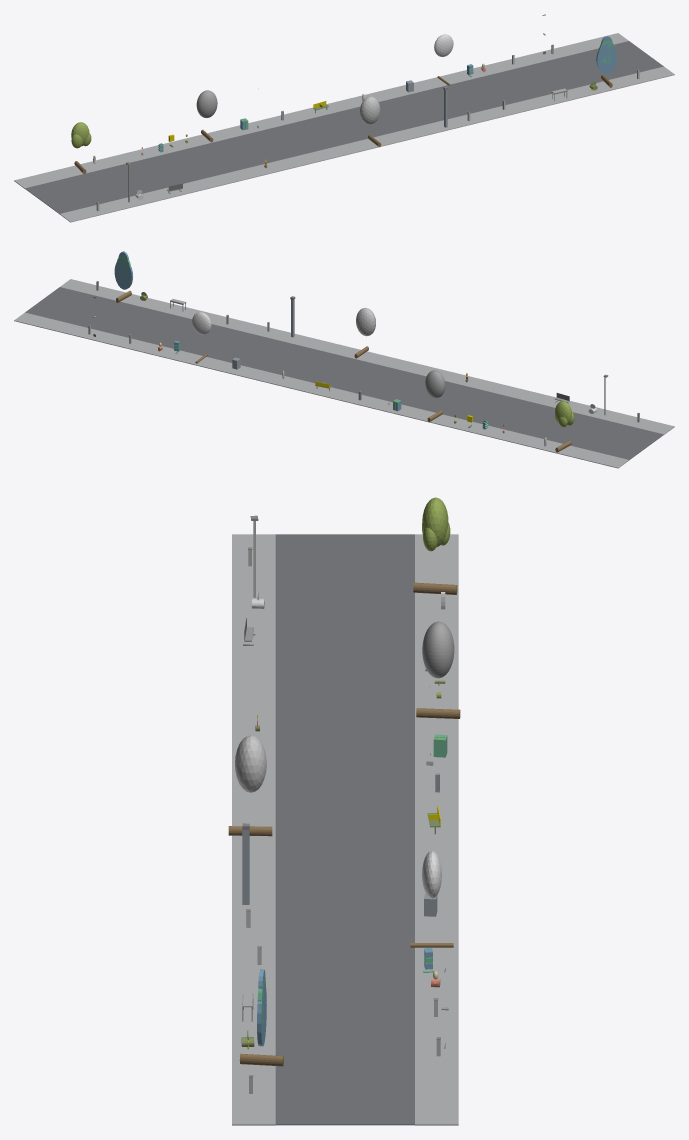
3 renders of one model, top to bottom at view 1: azimuth 30°, elevation 25°; view 2: azimuth 150°, elevation 25°; view 3: azimuth 270°, elevation 25°, orthographic. The views are drawn at different scales.
Visible parts, largest first — view 1: road_slab, sidewalk_left, sidewalk_right, inst_0016, inst_0013, inst_0014, inst_0012, inst_0015; view 2: road_slab, sidewalk_right, sidewalk_left, inst_0016, inst_0013, inst_0014, inst_0012, inst_0015; view 3: road_slab, sidewalk_left, sidewalk_right, inst_0013, inst_0014, inst_0012, inst_0016, inst_0015.
Boxes of the visible parts, box(x1,y1,x2,y2) form: road_slab: box(25, 41, 663, 213); sidewalk_left: box(59, 66, 674, 222); sidewalk_right: box(14, 33, 628, 188); inst_0016: box(596, 36, 617, 87); inst_0013: box(196, 90, 217, 142); inst_0014: box(360, 96, 381, 147); inst_0012: box(71, 122, 91, 173); inst_0015: box(434, 34, 453, 85); road_slab: box(25, 287, 663, 459); sidewalk_right: box(14, 312, 629, 468); sidewalk_left: box(60, 279, 674, 434); inst_0016: box(114, 251, 133, 302); inst_0013: box(425, 370, 445, 421); inst_0014: box(354, 307, 375, 358); inst_0012: box(555, 401, 574, 452); inst_0015: box(192, 312, 211, 363); road_slab: box(275, 534, 414, 1125); sidewalk_left: box(232, 534, 275, 1125); sidewalk_right: box(415, 534, 458, 1125); inst_0013: box(416, 621, 460, 718); inst_0014: box(228, 735, 272, 836); inst_0012: box(413, 497, 457, 594); inst_0016: box(239, 969, 283, 1066); inst_0015: box(410, 851, 453, 947).
Size of the model in its own units: 80 by 6.08 by 13.29.
